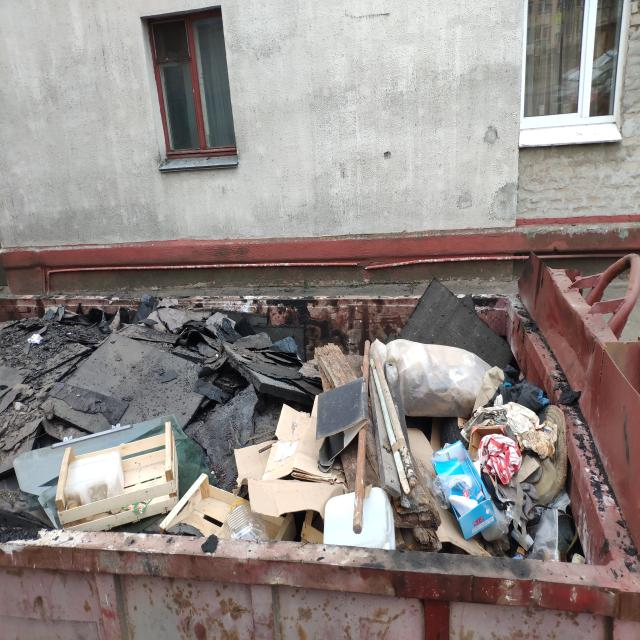entulho: (49, 411, 182, 530), (145, 472, 300, 565), (236, 396, 346, 515), (311, 342, 391, 505), (373, 344, 510, 424), (496, 392, 574, 503), (424, 442, 502, 536), (303, 378, 380, 455), (322, 483, 401, 550), (514, 499, 584, 572), (475, 426, 532, 484)
